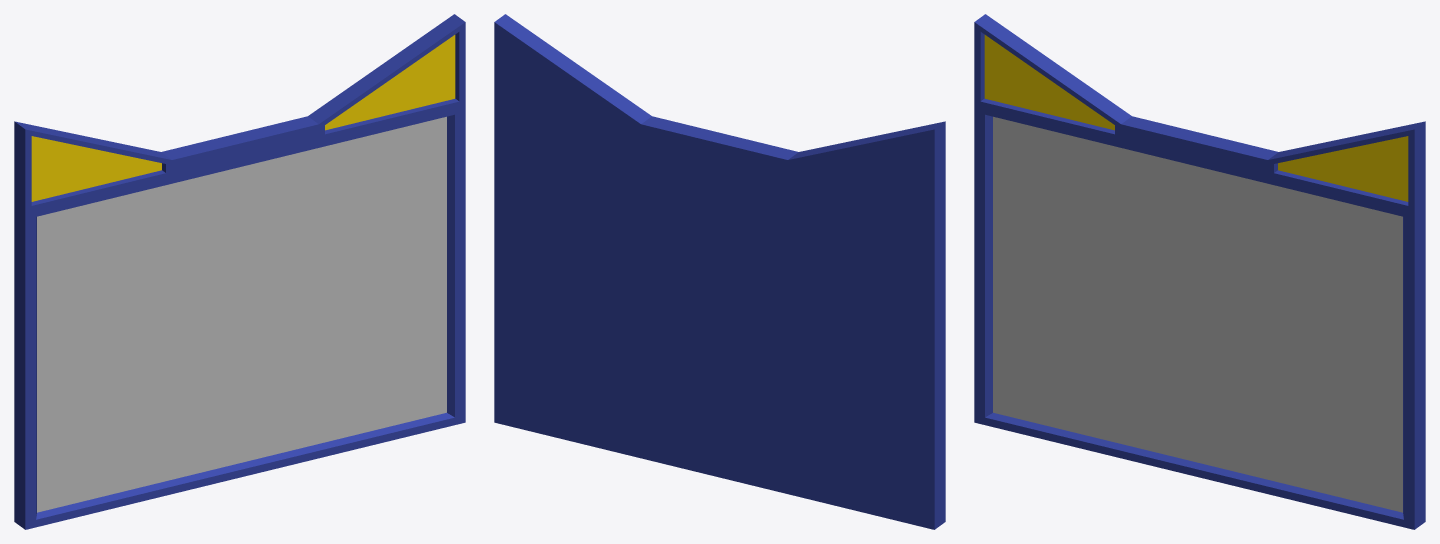
Rendered from Pizarra_Blanca-WarRoom.glb.
The picture shows the model from 3 angles, left to right: view 1: azimuth 30°, elevation 25°; view 2: azimuth 150°, elevation 25°; view 3: azimuth 330°, elevation 25°; orthographic projection.
Visible parts, largest first — view 1: pizarra_blanca; view 2: pizarra_blanca; view 3: pizarra_blanca.
Part boxes in pixels (x1,y1,x2,y2): pizarra_blanca: [14, 14, 465, 529]; pizarra_blanca: [494, 14, 945, 529]; pizarra_blanca: [974, 14, 1425, 529].
Bounding box in the file's own units: 1.48 × 1.29 × 0.0644.
1 material, 1 textured.
